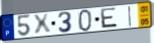0: (78, 9, 93, 33)
3: (57, 11, 74, 34)
5: (17, 14, 32, 39)
E: (100, 7, 120, 30)
I: (128, 5, 133, 28)
X: (32, 13, 53, 37)
